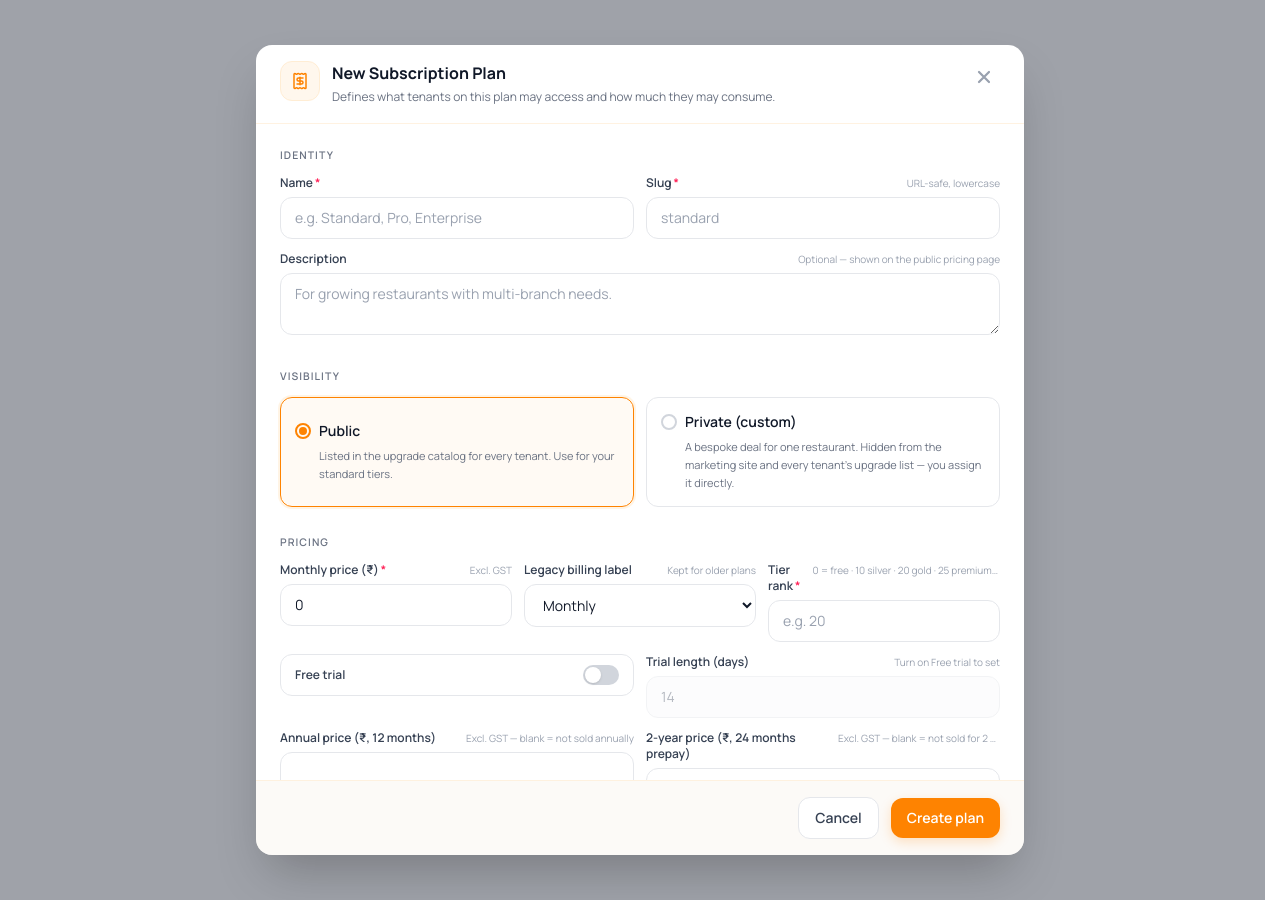
Test: PlanFormModal tier / trial / card fields › trial toggle on + length → trial object and synced trialDays
The image size is (1280, 900).
Later steps or results of the test are not shown.
Type "Starter" into the field labelled "Name*". click: {"x": 457, "y": 218}
box: [280,197,634,239]
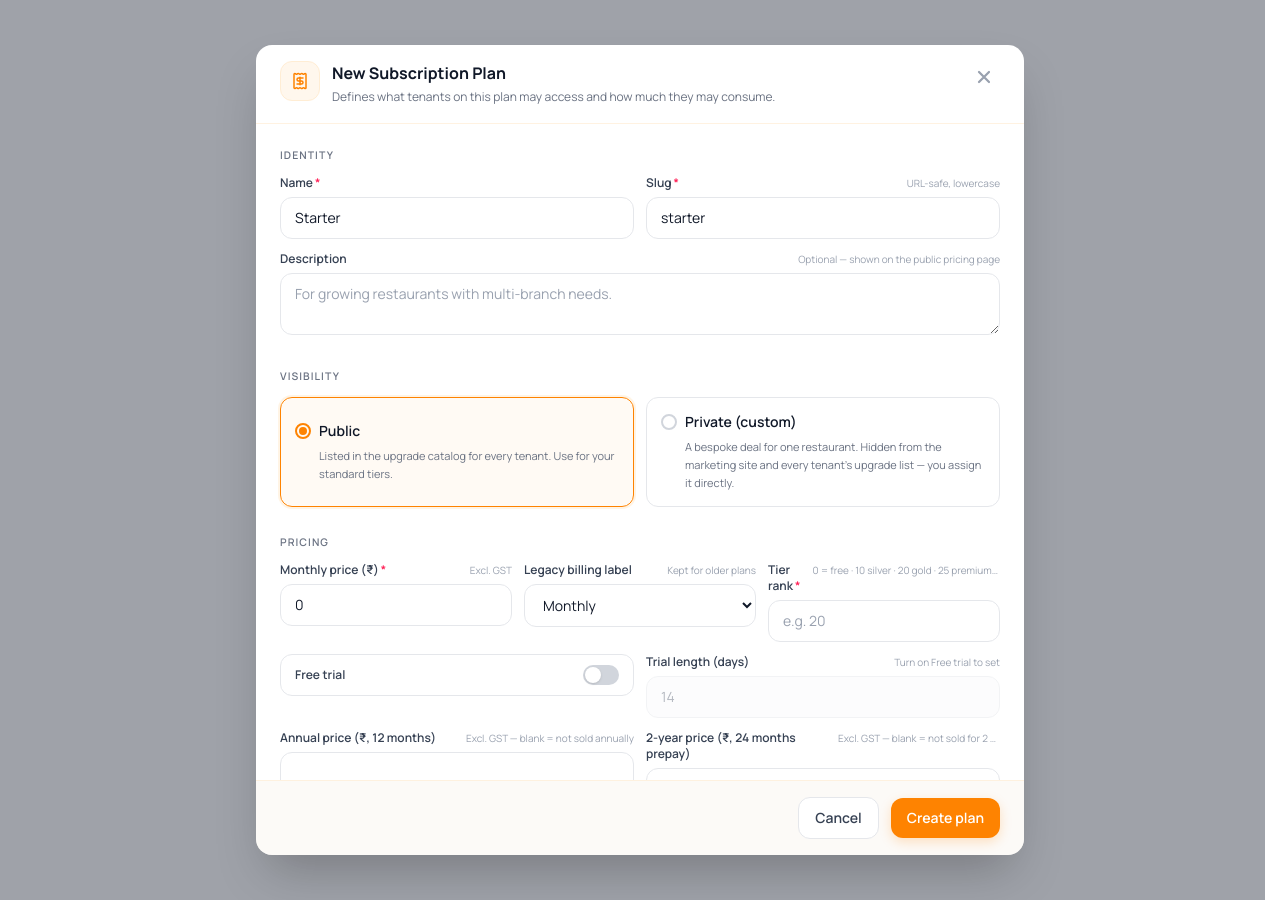
Replace the text in the number field labelled "Monthly price (₹)* Excl. GST" with "499". click: {"x": 396, "y": 605}
box: [280,584,512,626]
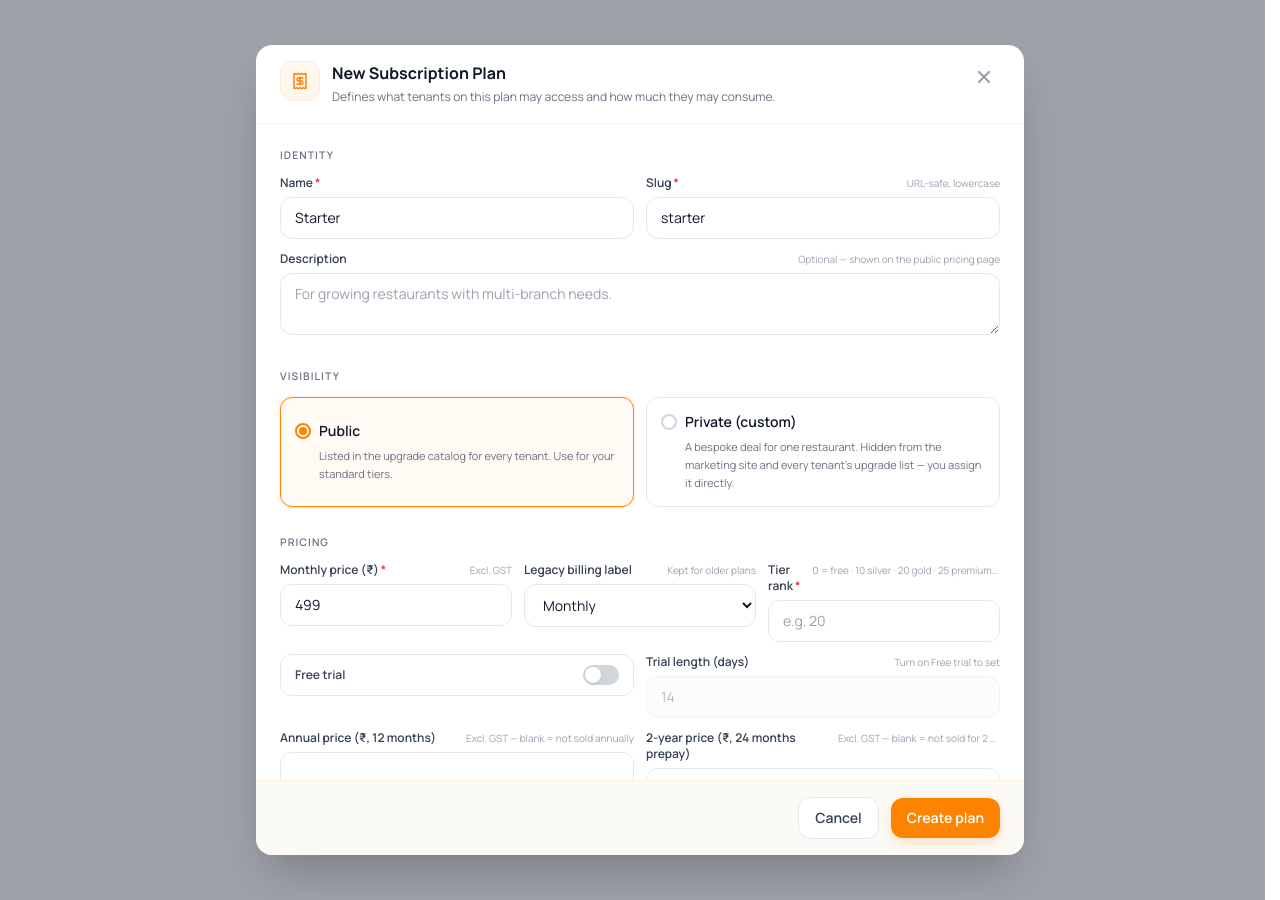
Type "10" into the 2nd number field. click: {"x": 884, "y": 621}
box: [768,600,1000,642]
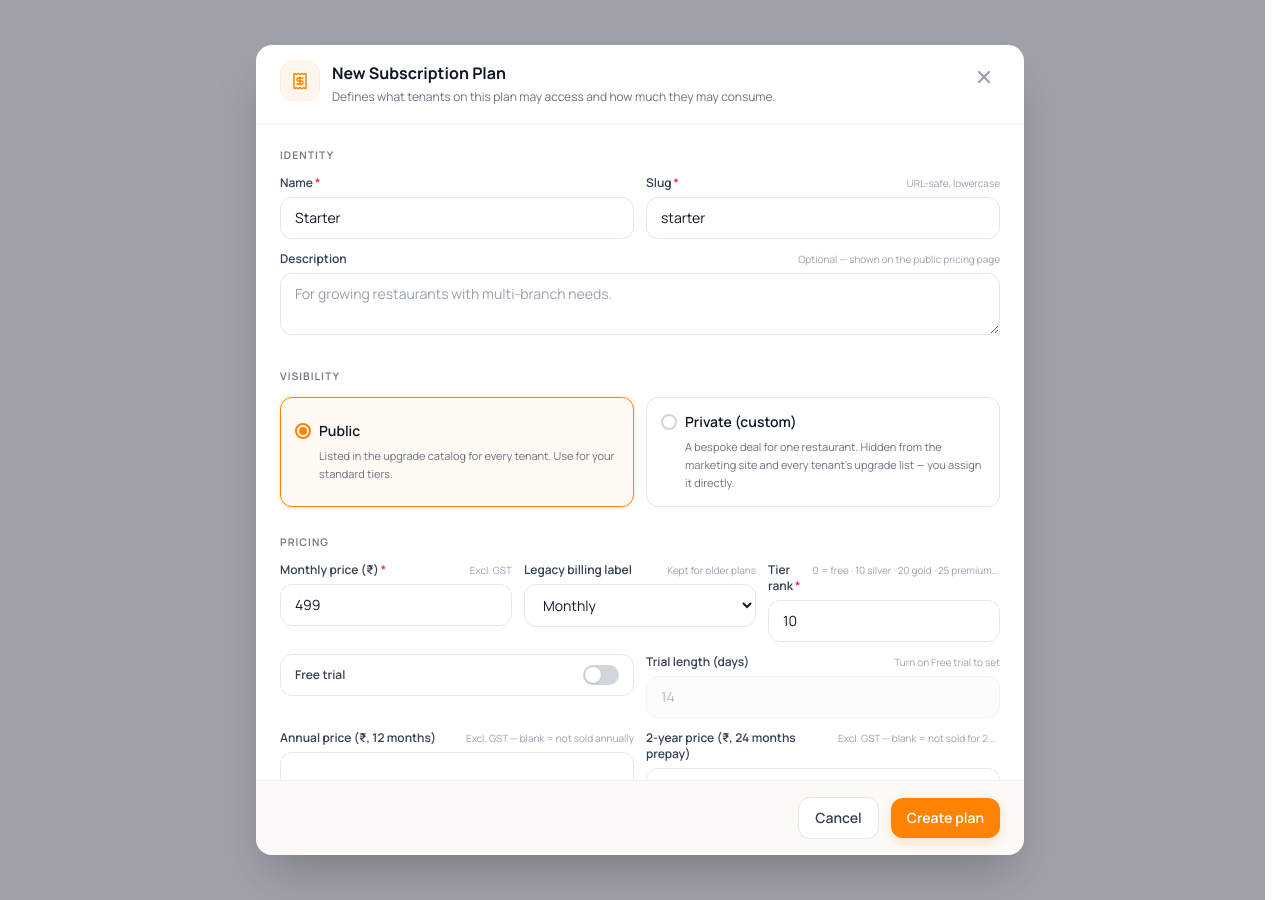
Expected: the number field labelled "Trial length (days) Turn on Free trial to set" is disabled, [646,676,1000,718]
Click the button "Free trial". click: {"x": 320, "y": 675}
box: [280,654,634,696]
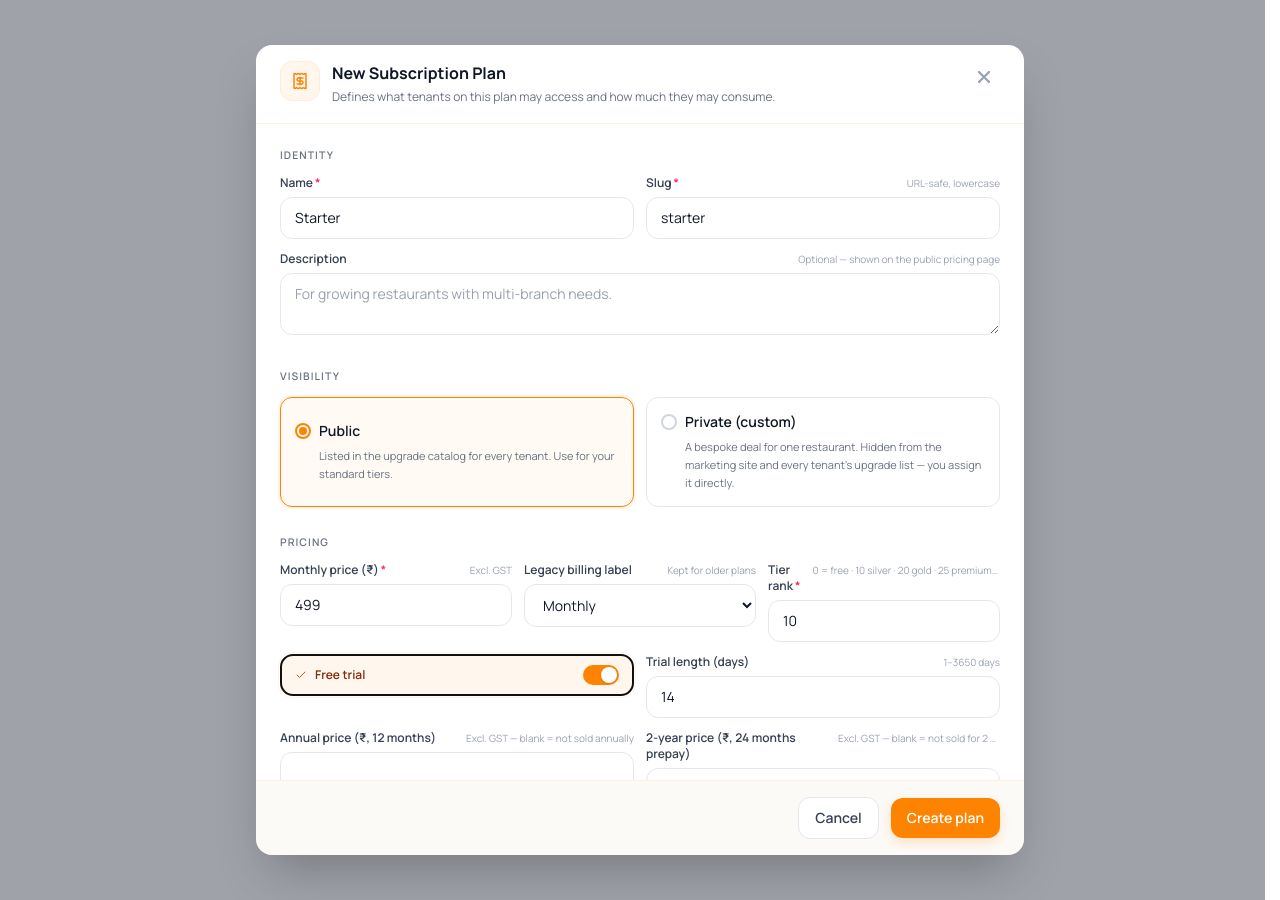
Now the number field labelled "Trial length (days) 1–3650 days" is enabled, box [646,676,1000,718]
